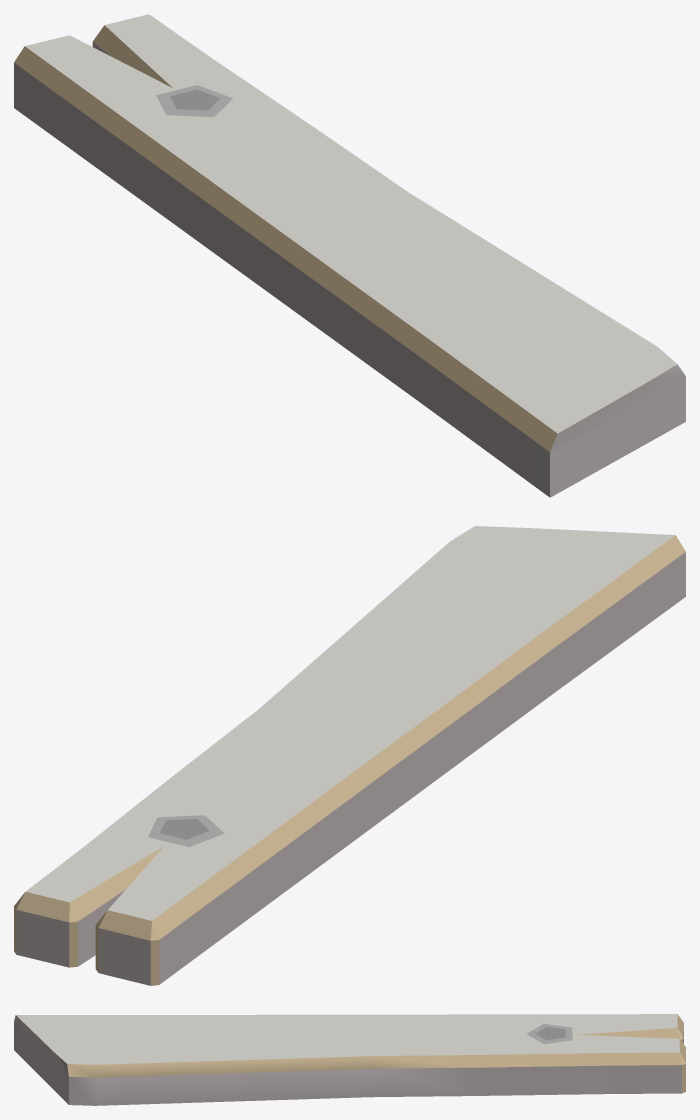
The model's file is WoodBoardE_22.glb.
3 renders of one model, top to bottom at view 1: azimuth 30°, elevation 25°; view 2: azimuth 150°, elevation 25°; view 3: azimuth 270°, elevation 25°, orthographic. The views are drawn at different scales.
Visible parts, largest first — view 1: WoodBoardE; view 2: WoodBoardE; view 3: WoodBoardE.
Boxes of the visible parts, x1,y1,x2,y2 form: WoodBoardE: (14, 14, 685, 497); WoodBoardE: (14, 526, 685, 985); WoodBoardE: (14, 1014, 685, 1105).
Bounding box in the file's own units: 0.4611 × 0.1509 × 2.32.
